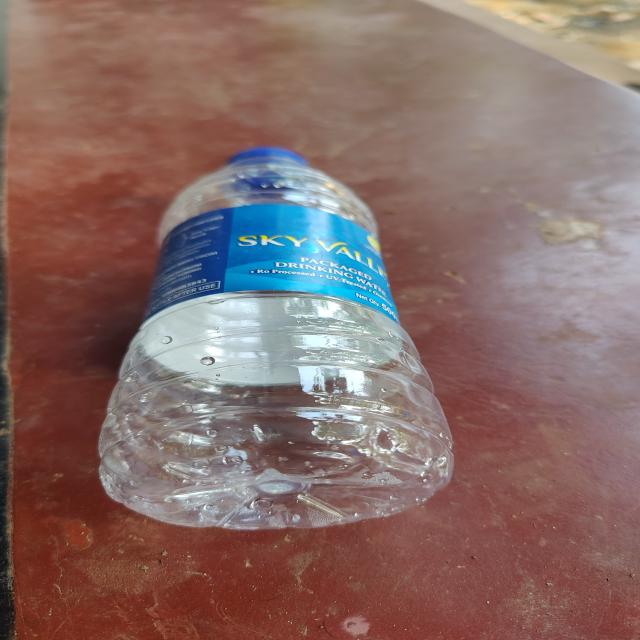plastic: (88, 141, 452, 533)
